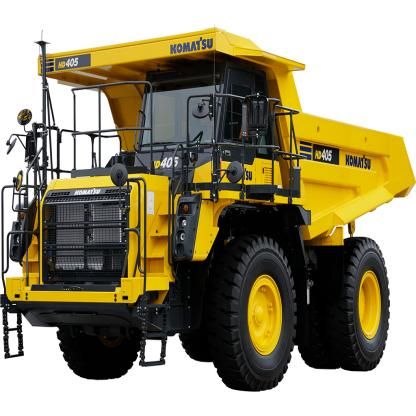dump_truck: (5, 29, 413, 388)
